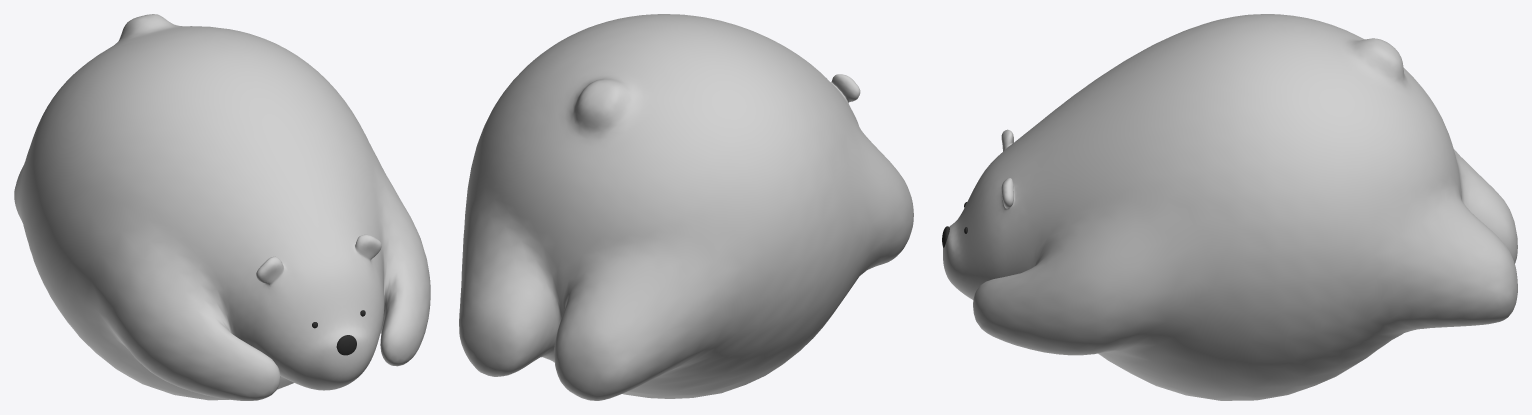
File: bear.fbx
The picture shows the model from 3 angles, left to right: view 1: azimuth 30°, elevation 25°; view 2: azimuth 150°, elevation 25°; view 3: azimuth 270°, elevation 25°; orthographic projection. The views are drawn at different scales.
Parts seen in each view (by area): view 1: bear; view 2: bear; view 3: bear.
Boxes of the visible parts, x1=… form: bear: x1=14, y1=14, x2=430, y2=400; bear: x1=459, y1=14, x2=913, y2=400; bear: x1=942, y1=14, x2=1517, y2=400.
Size of the model in its own units: 158 by 161 by 239.
